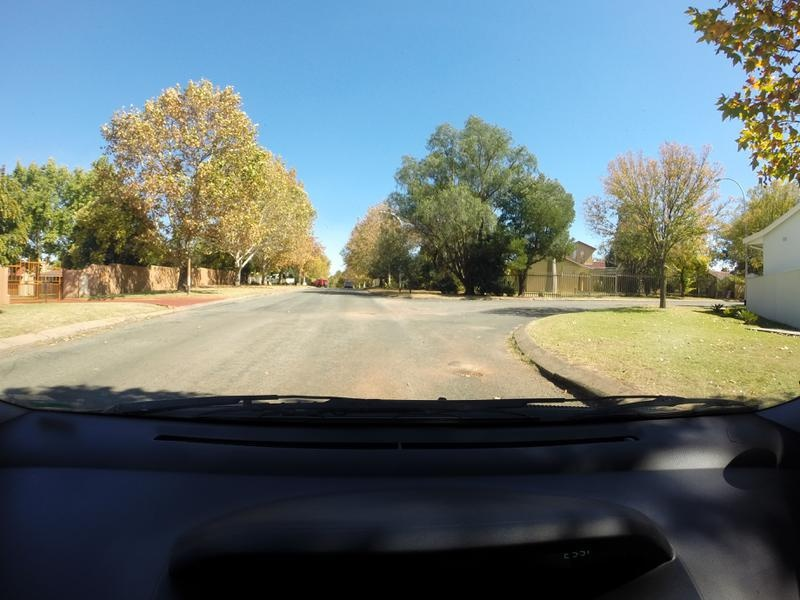pothole: (448, 356, 487, 385)
